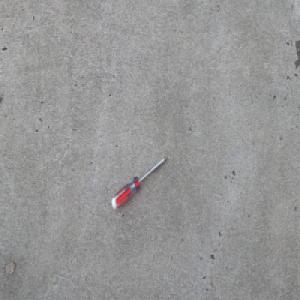Screwdriver: (110, 155, 169, 211)
